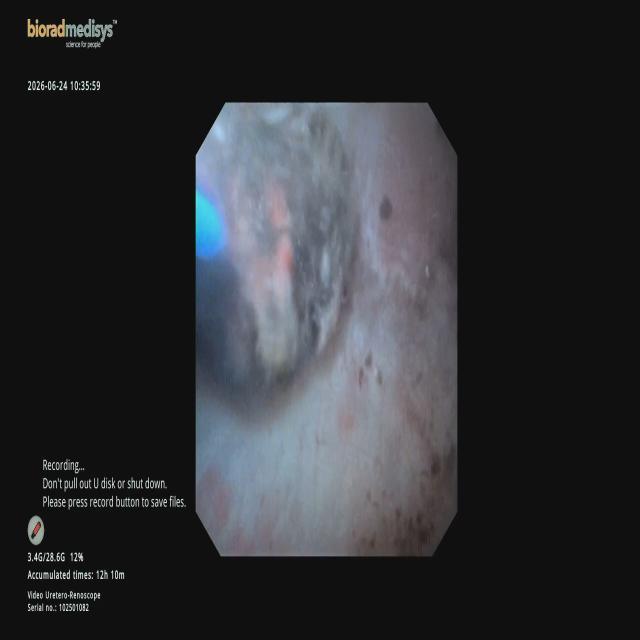stone-new: (195, 104, 356, 392), (379, 196, 392, 220), (431, 453, 441, 477), (375, 367, 382, 385), (365, 351, 372, 367), (359, 367, 364, 388)
